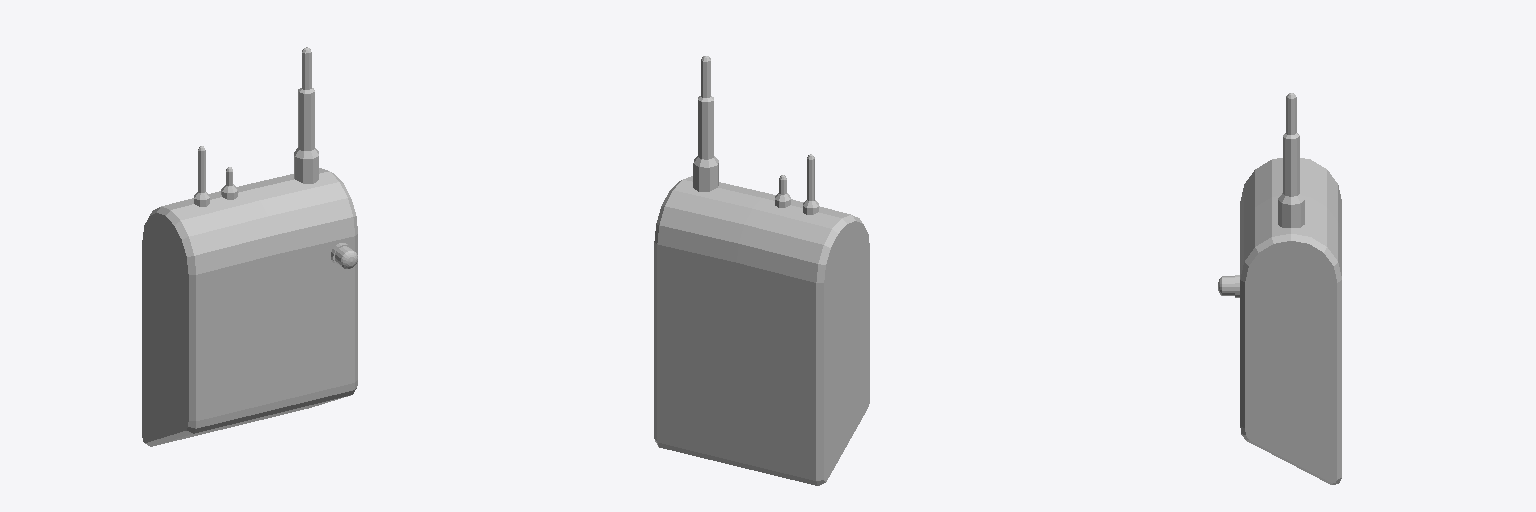
File: starship_tech_box_01.obj
3 views of the same model, side by side, from view 1: azimuth 30°, elevation 25°; view 2: azimuth 150°, elevation 25°; view 3: azimuth 270°, elevation 25° (orthographic).
Parts seen in each view (by area): view 1: Starship_tech_box_01_03_0; view 2: Starship_tech_box_01_03_0; view 3: Starship_tech_box_01_03_0.
Part boxes in pixels (left/top/right/bottom): Starship_tech_box_01_03_0: left=142, top=47, right=357, bottom=446; Starship_tech_box_01_03_0: left=654, top=56, right=869, bottom=485; Starship_tech_box_01_03_0: left=1218, top=93, right=1341, bottom=484.
Bounding box in the file's own units: 0.5734 × 1.23 × 0.3644.